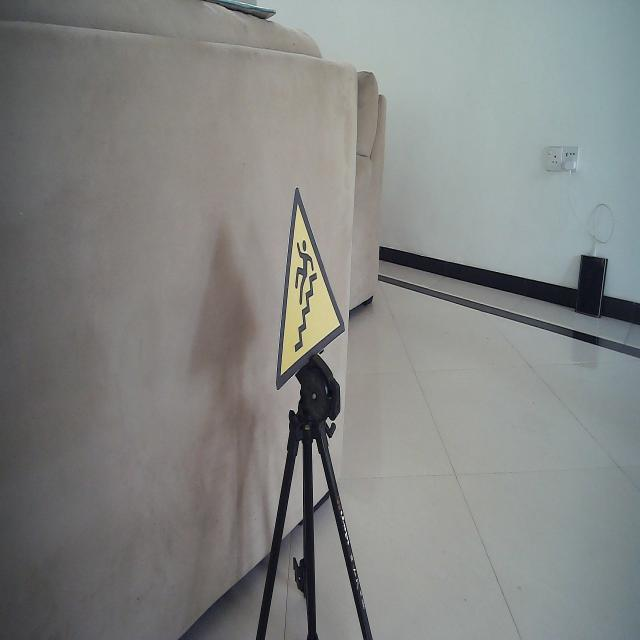stairs: (274, 184, 346, 392)
